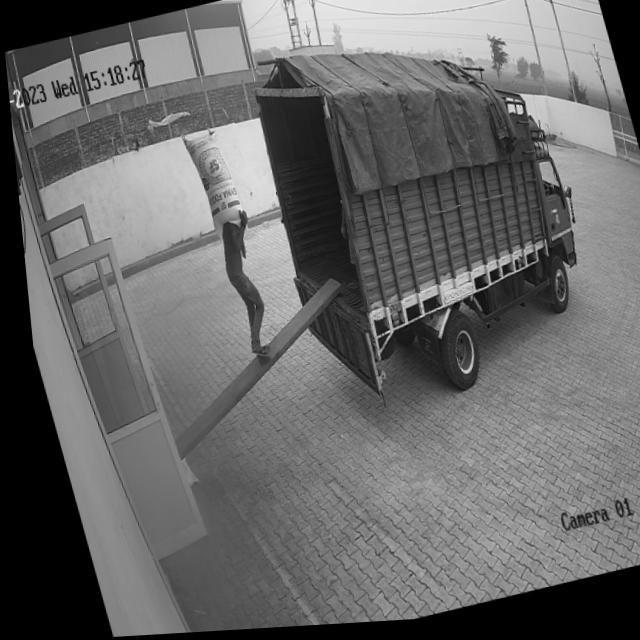sack: (177, 125, 244, 240)
